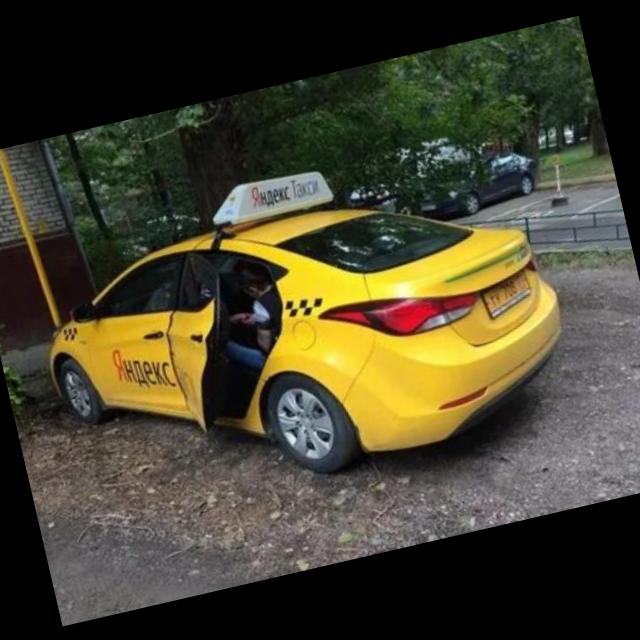taxi: (16, 117, 586, 530)
